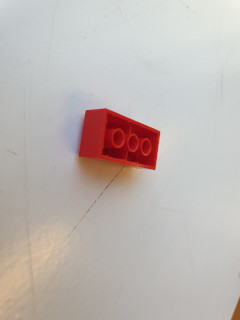2x4 red: (79, 108, 161, 176)
